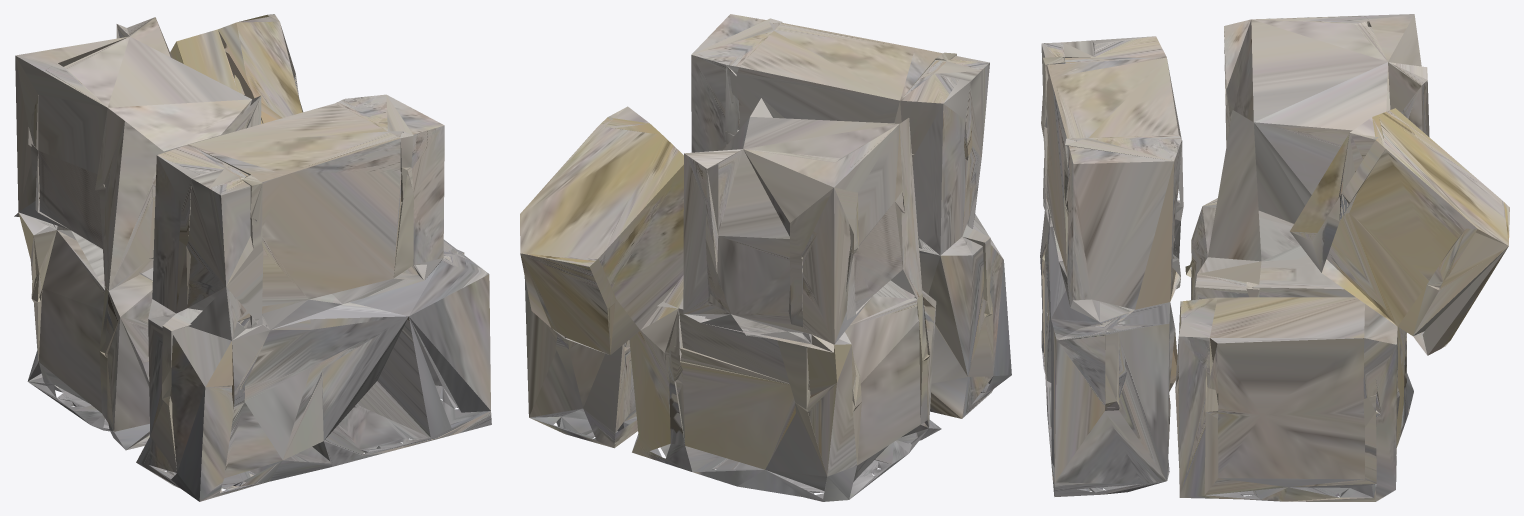
The picture shows the model from 3 angles, left to right: view 1: azimuth 30°, elevation 25°; view 2: azimuth 150°, elevation 25°; view 3: azimuth 270°, elevation 25°; orthographic projection. The views are drawn at different scales.
Parts seen in each view (by area): view 1: k03; view 2: k03; view 3: k03.
Part boxes in pixels (x1,y1,x2,y2): k03: [14, 14, 491, 501]; k03: [520, 14, 1011, 501]; k03: [1040, 14, 1509, 501].
Bounding box in the file's own units: 12.3 × 11.84 × 15.1.
Materials: 1 (1 with a texture image).
